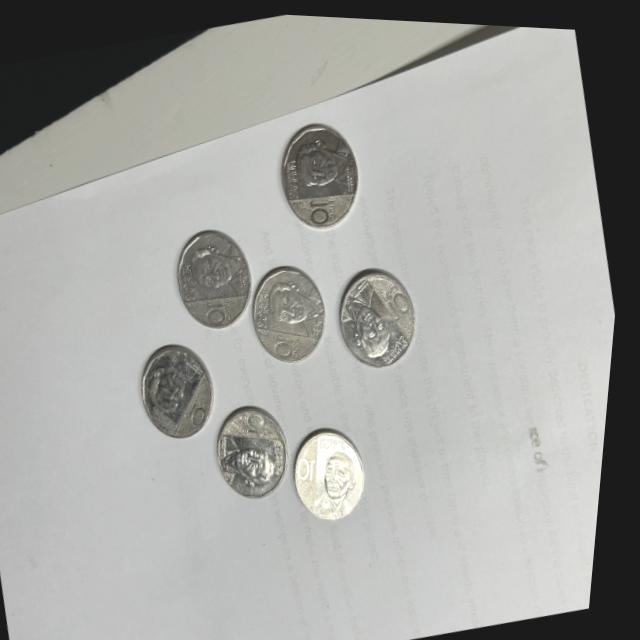10_New_Front: (233, 401, 280, 452), (307, 186, 353, 230), (382, 273, 419, 319), (200, 297, 242, 334), (280, 323, 318, 362), (295, 443, 328, 487), (185, 387, 215, 426)
